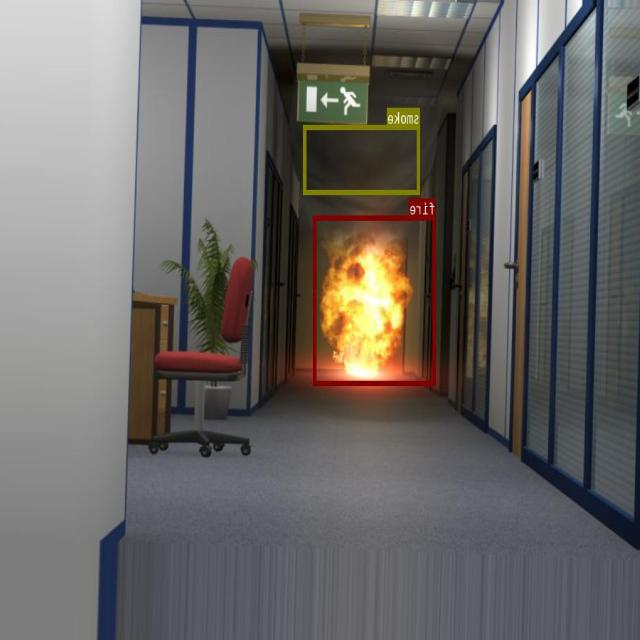fire: (314, 215, 436, 385)
smoke: (304, 124, 421, 193)
